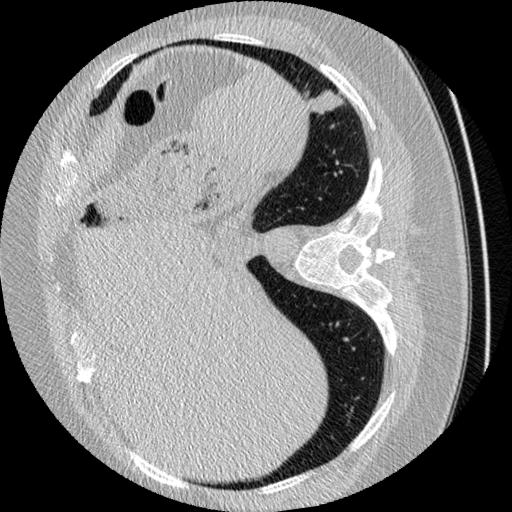nodule: (306, 83, 344, 121)
